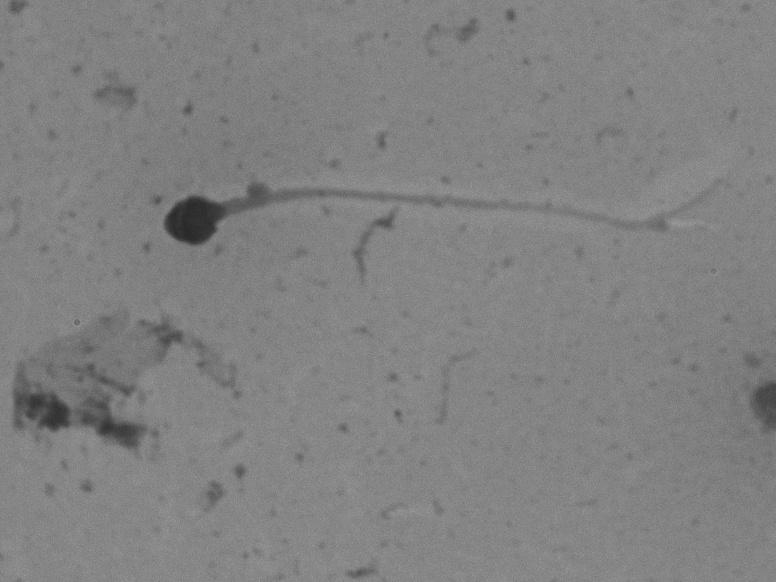Abnormal: (122, 144, 727, 286)
